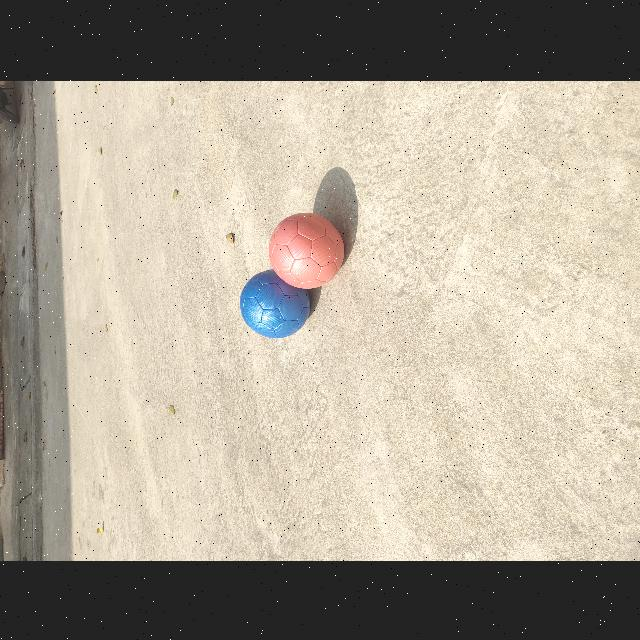B: (240, 268, 310, 337)
R: (269, 212, 345, 288)
